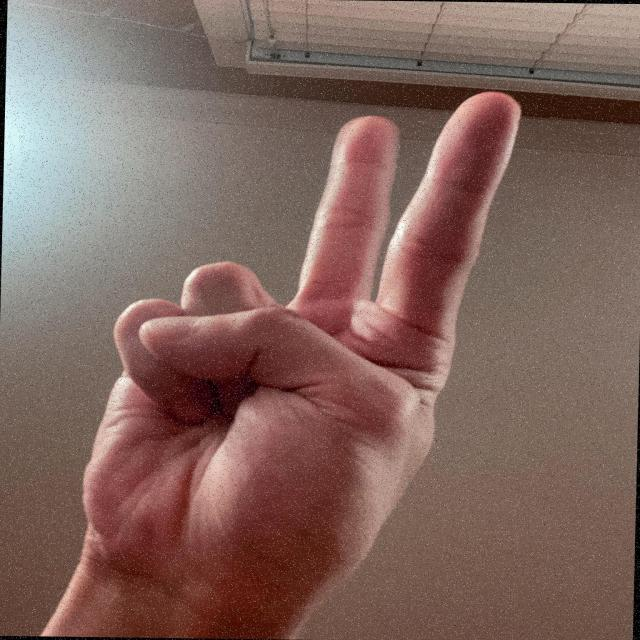V: (74, 79, 530, 616)
